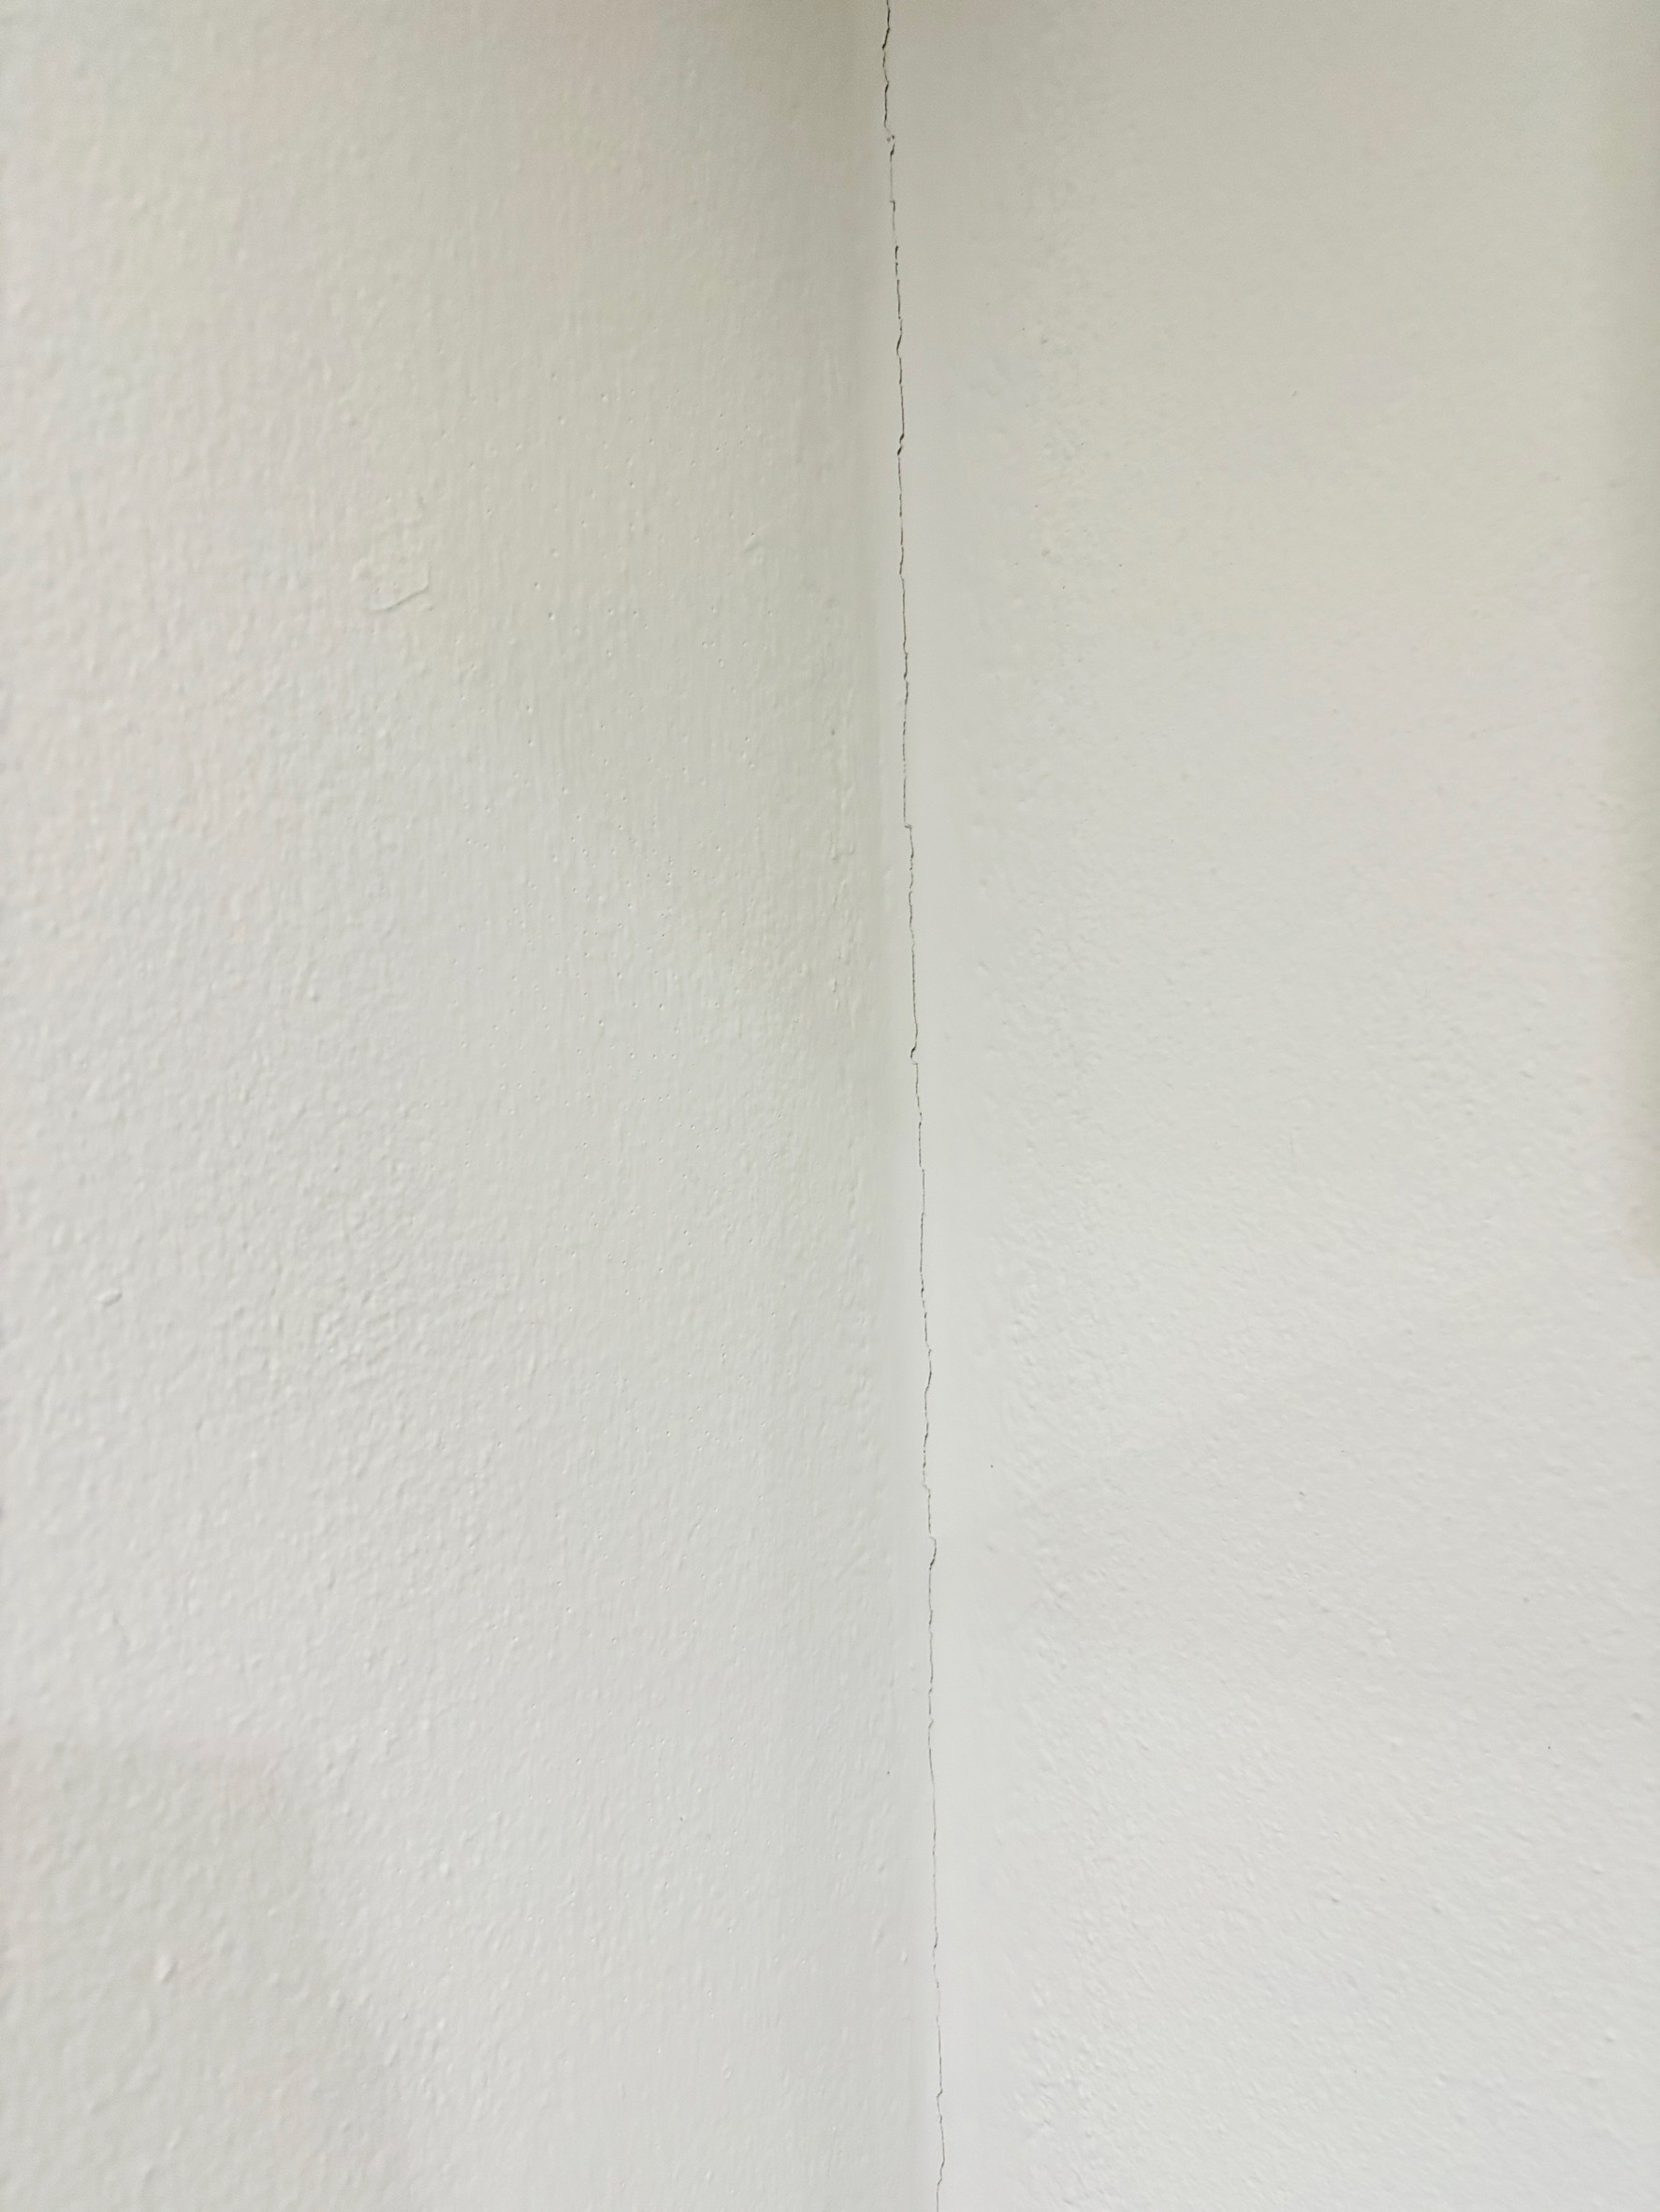Low: (825, 2, 1020, 2205)
